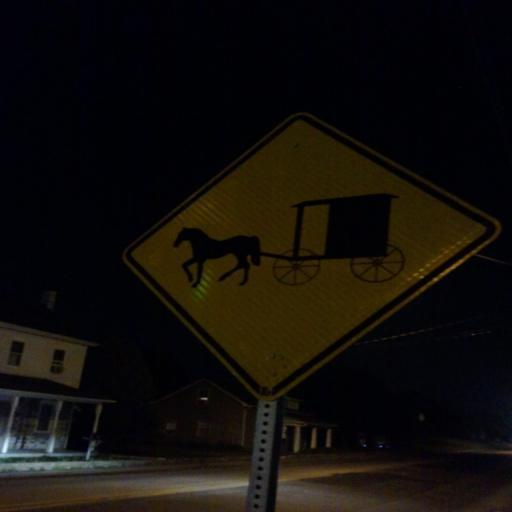horse: (172, 223, 264, 286)
